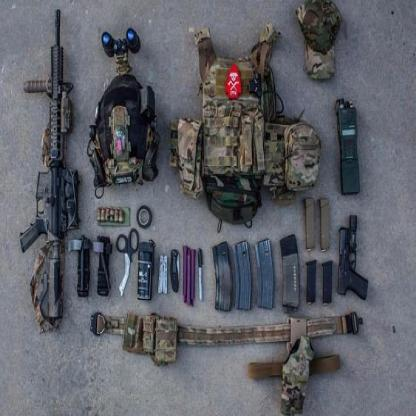Grenade: (68, 233, 91, 297), (92, 233, 114, 299), (136, 238, 156, 300)
Gun: (18, 6, 80, 335)
Pistol: (336, 212, 369, 302)
